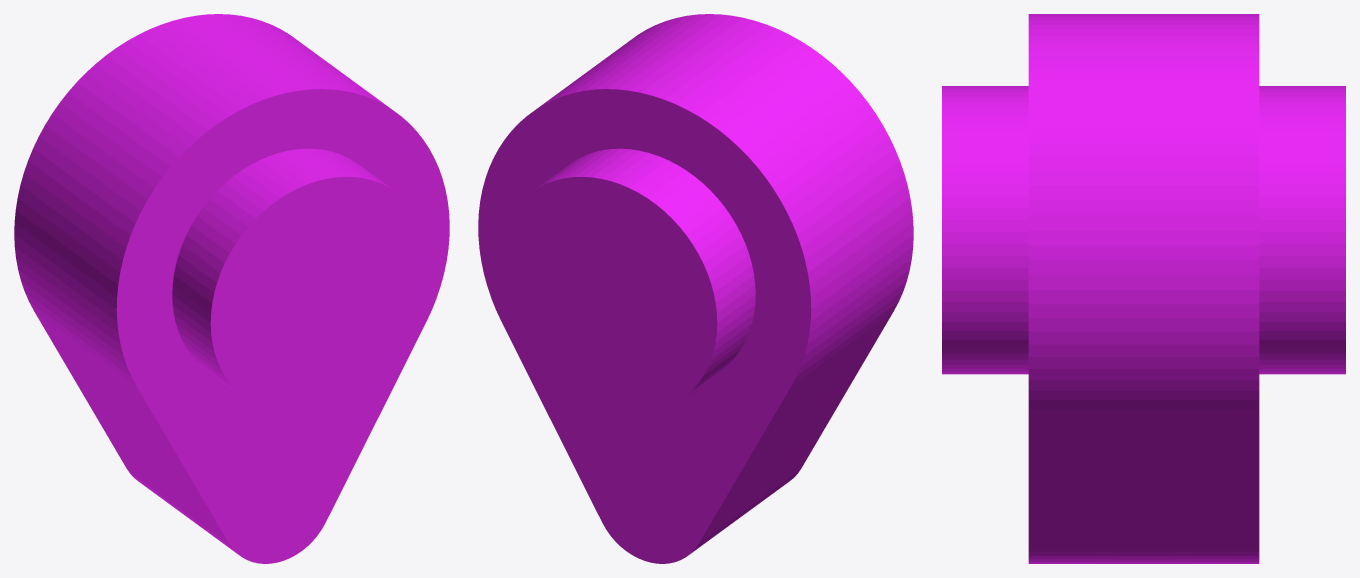
File: cam01.glb
The picture shows the model from 3 angles, left to right: view 1: azimuth 30°, elevation 25°; view 2: azimuth 150°, elevation 25°; view 3: azimuth 270°, elevation 25°; orthographic projection. The views are drawn at different scales.
Bounding box in the file's own units: 15 × 20.12 × 14.
